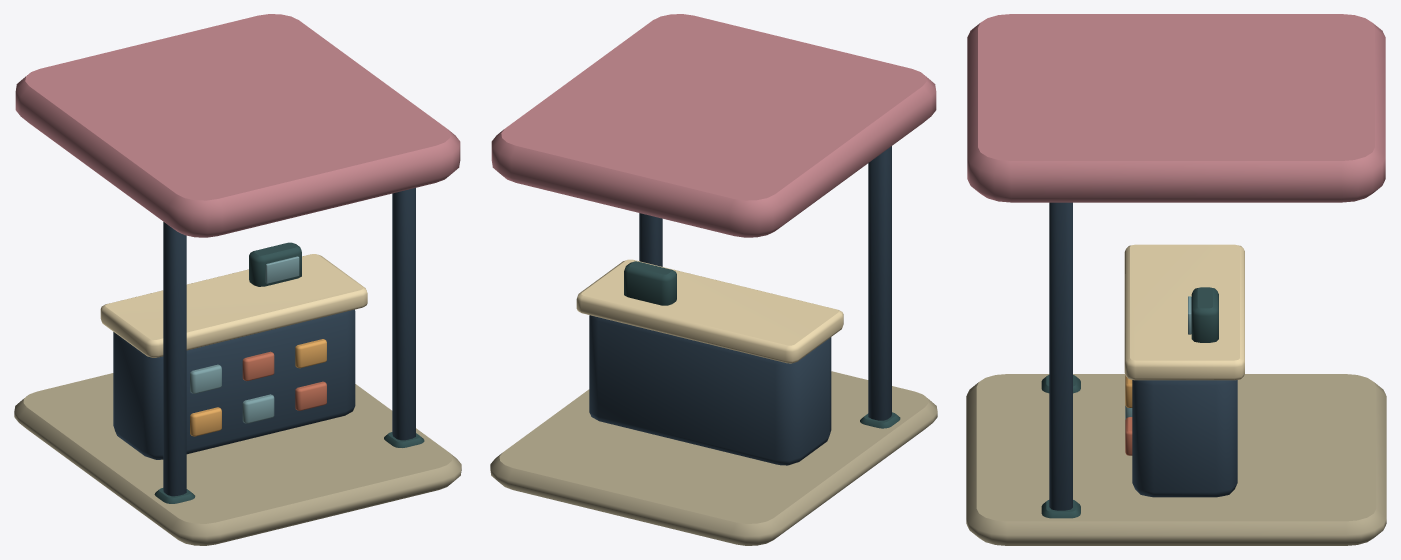
File: luxury_restaurant_2.glb
3 renders of one model, left to right at view 1: azimuth 30°, elevation 25°; view 2: azimuth 150°, elevation 25°; view 3: azimuth 270°, elevation 25°, orthographic. The views are drawn at different scales.
Visible parts, largest first — view 1: LuxuryRestaurant2; view 2: LuxuryRestaurant2; view 3: LuxuryRestaurant2.
Boxes of the visible parts, <box> form: LuxuryRestaurant2: <box>14,14,461,545</box>; LuxuryRestaurant2: <box>490,14,937,545</box>; LuxuryRestaurant2: <box>966,14,1386,545</box>.
Bounding box in the file's own units: 2.18 × 2.51 × 2.48.
